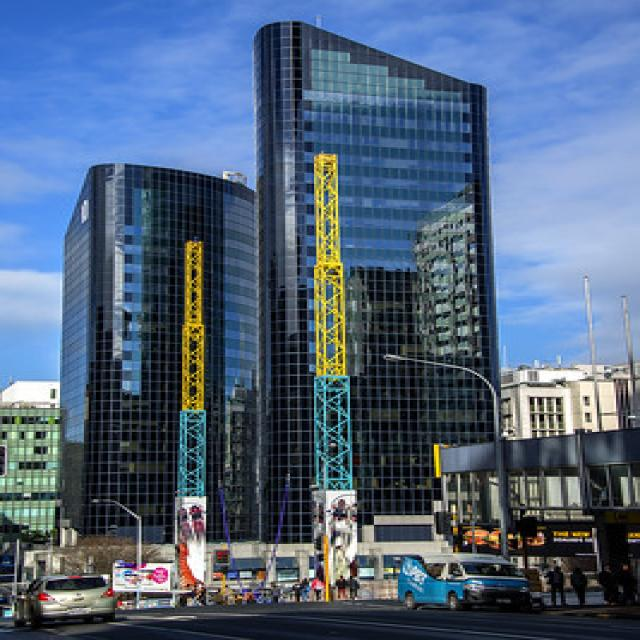building: (247, 19, 506, 568), (50, 158, 259, 596)
